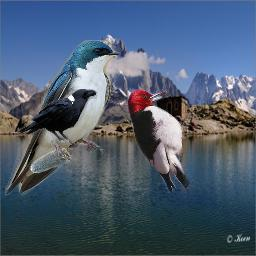Crow: (17, 89, 97, 147)
Swallow: (5, 40, 121, 196)
Woodpecker: (127, 89, 191, 193)
